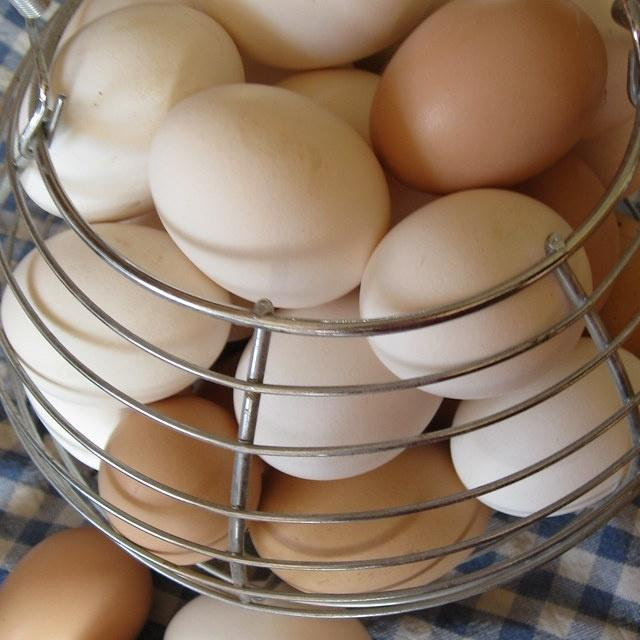egg: (147, 81, 391, 309), (16, 1, 245, 223), (358, 187, 593, 399), (369, 0, 608, 193), (232, 291, 443, 481), (248, 440, 492, 595), (97, 395, 262, 565), (451, 360, 626, 488), (189, 0, 440, 70), (0, 525, 152, 640), (480, 416, 639, 516), (453, 336, 597, 422), (161, 587, 381, 640), (567, 468, 628, 510), (617, 349, 640, 392)
